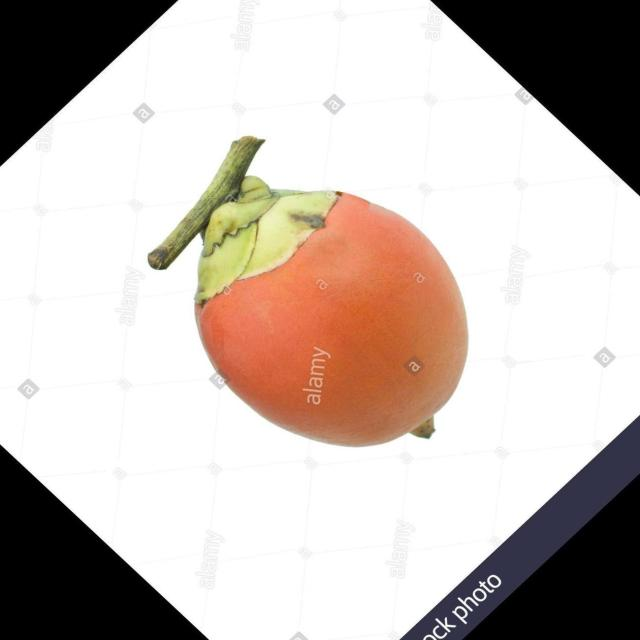good: (160, 140, 471, 450)
